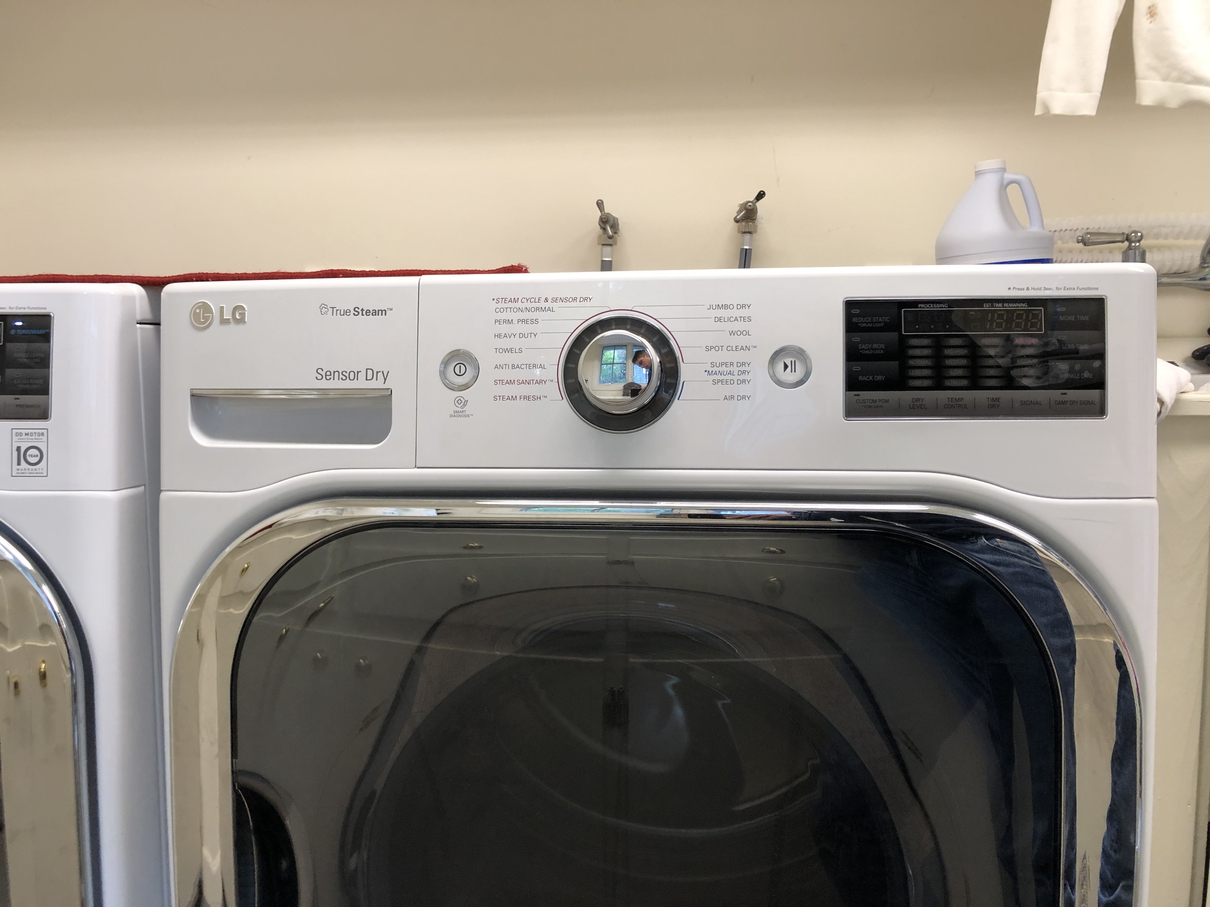status: (895, 294, 1048, 341)
